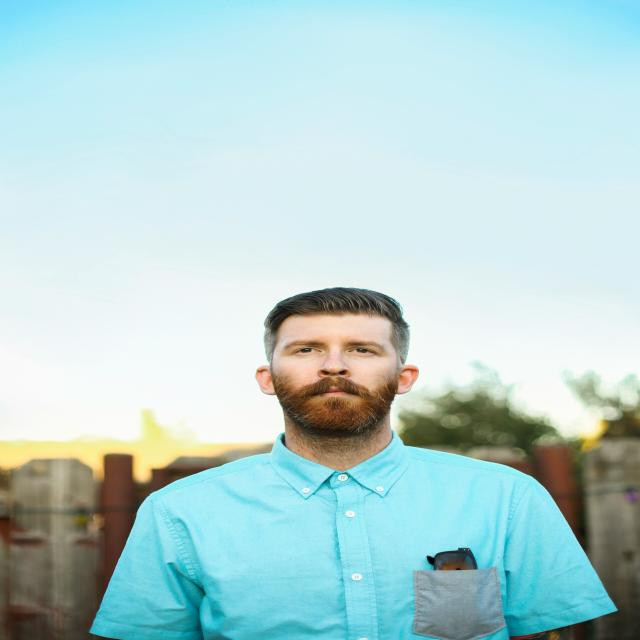human: (90, 283, 627, 640)
